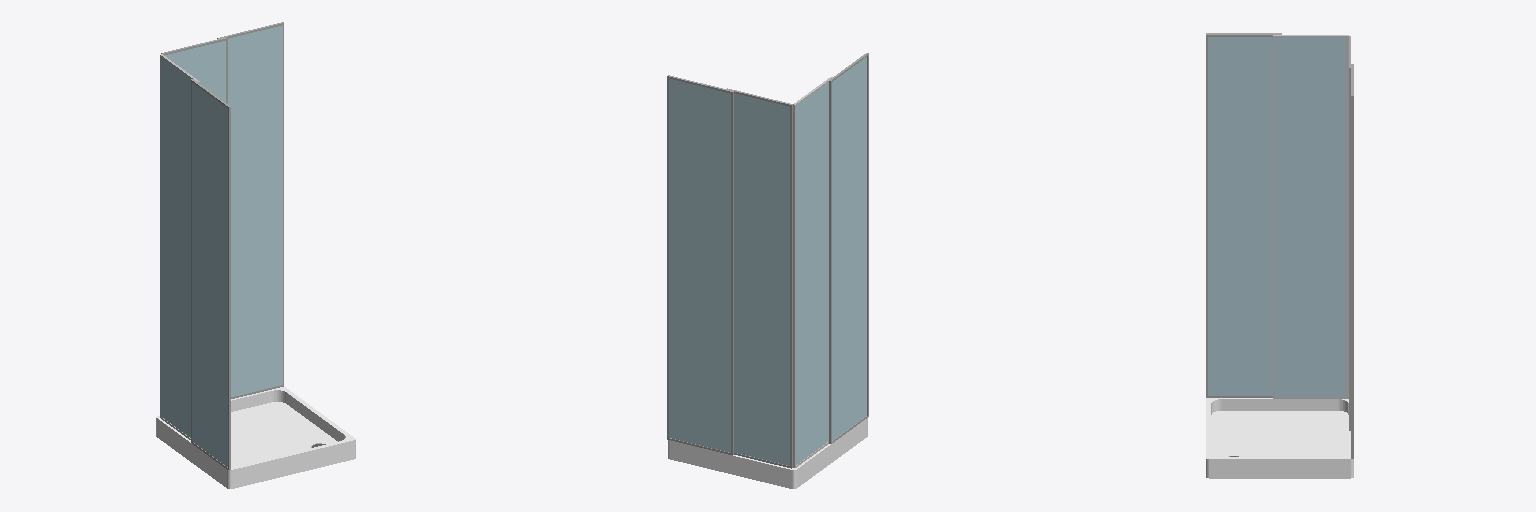
The model's file is doccia.obj.
3 views of the same model, side by side, from view 1: azimuth 30°, elevation 25°; view 2: azimuth 150°, elevation 25°; view 3: azimuth 270°, elevation 25° (orthographic).
Visible parts, largest first — view 1: Box16_4, Box20_10, Box19_8, Rectangle06_2, Box18_6, Rectangle13_9, Rectangle07_3, Rectangle12_7; view 2: Box16_4, Box18_6, Box20_10, Box19_8, Rectangle06_2, Rectangle07_3, Rectangle13_9, Rectangle11_5, Rectangle12_7; view 3: Box19_8, Box20_10, Rectangle06_2, Rectangle12_7, Rectangle07_3, Rectangle13_9, Rectangle11_5.
Part boxes in pixels (x1,y1,x2,y2): Box16_4: (228,25,282,396); Box20_10: (192,83,227,466); Box19_8: (161,58,190,437); Rectangle06_2: (156,387,355,488); Box18_6: (164,41,225,102); Rectangle13_9: (191,79,230,470); Rectangle07_3: (217,22,283,398); Rectangle12_7: (160,54,199,439); Box16_4: (669,79,730,452); Box18_6: (734,93,789,465); Box20_10: (832,57,866,440); Box19_8: (796,83,828,464); Rectangle06_2: (668,418,867,488); Rectangle07_3: (667,75,733,455); Rectangle13_9: (829,53,868,443); Rectangle11_5: (727,88,792,468); Rectangle12_7: (793,77,832,467); Box19_8: (1275,38,1345,396); Box20_10: (1208,37,1272,395); Rectangle06_2: (1206,398,1353,478); Rectangle12_7: (1273,35,1348,398); Rectangle07_3: (1351,64,1353,458); Rectangle13_9: (1206,33,1281,397); Rectangle11_5: (1349,36,1350,430).
Bounding box in the file's own units: 70.03 × 200 × 70.